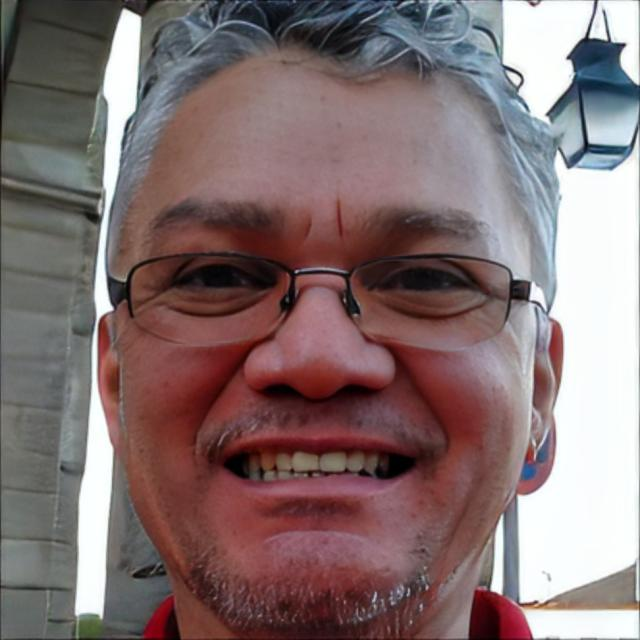happy: (112, 59, 530, 636)
